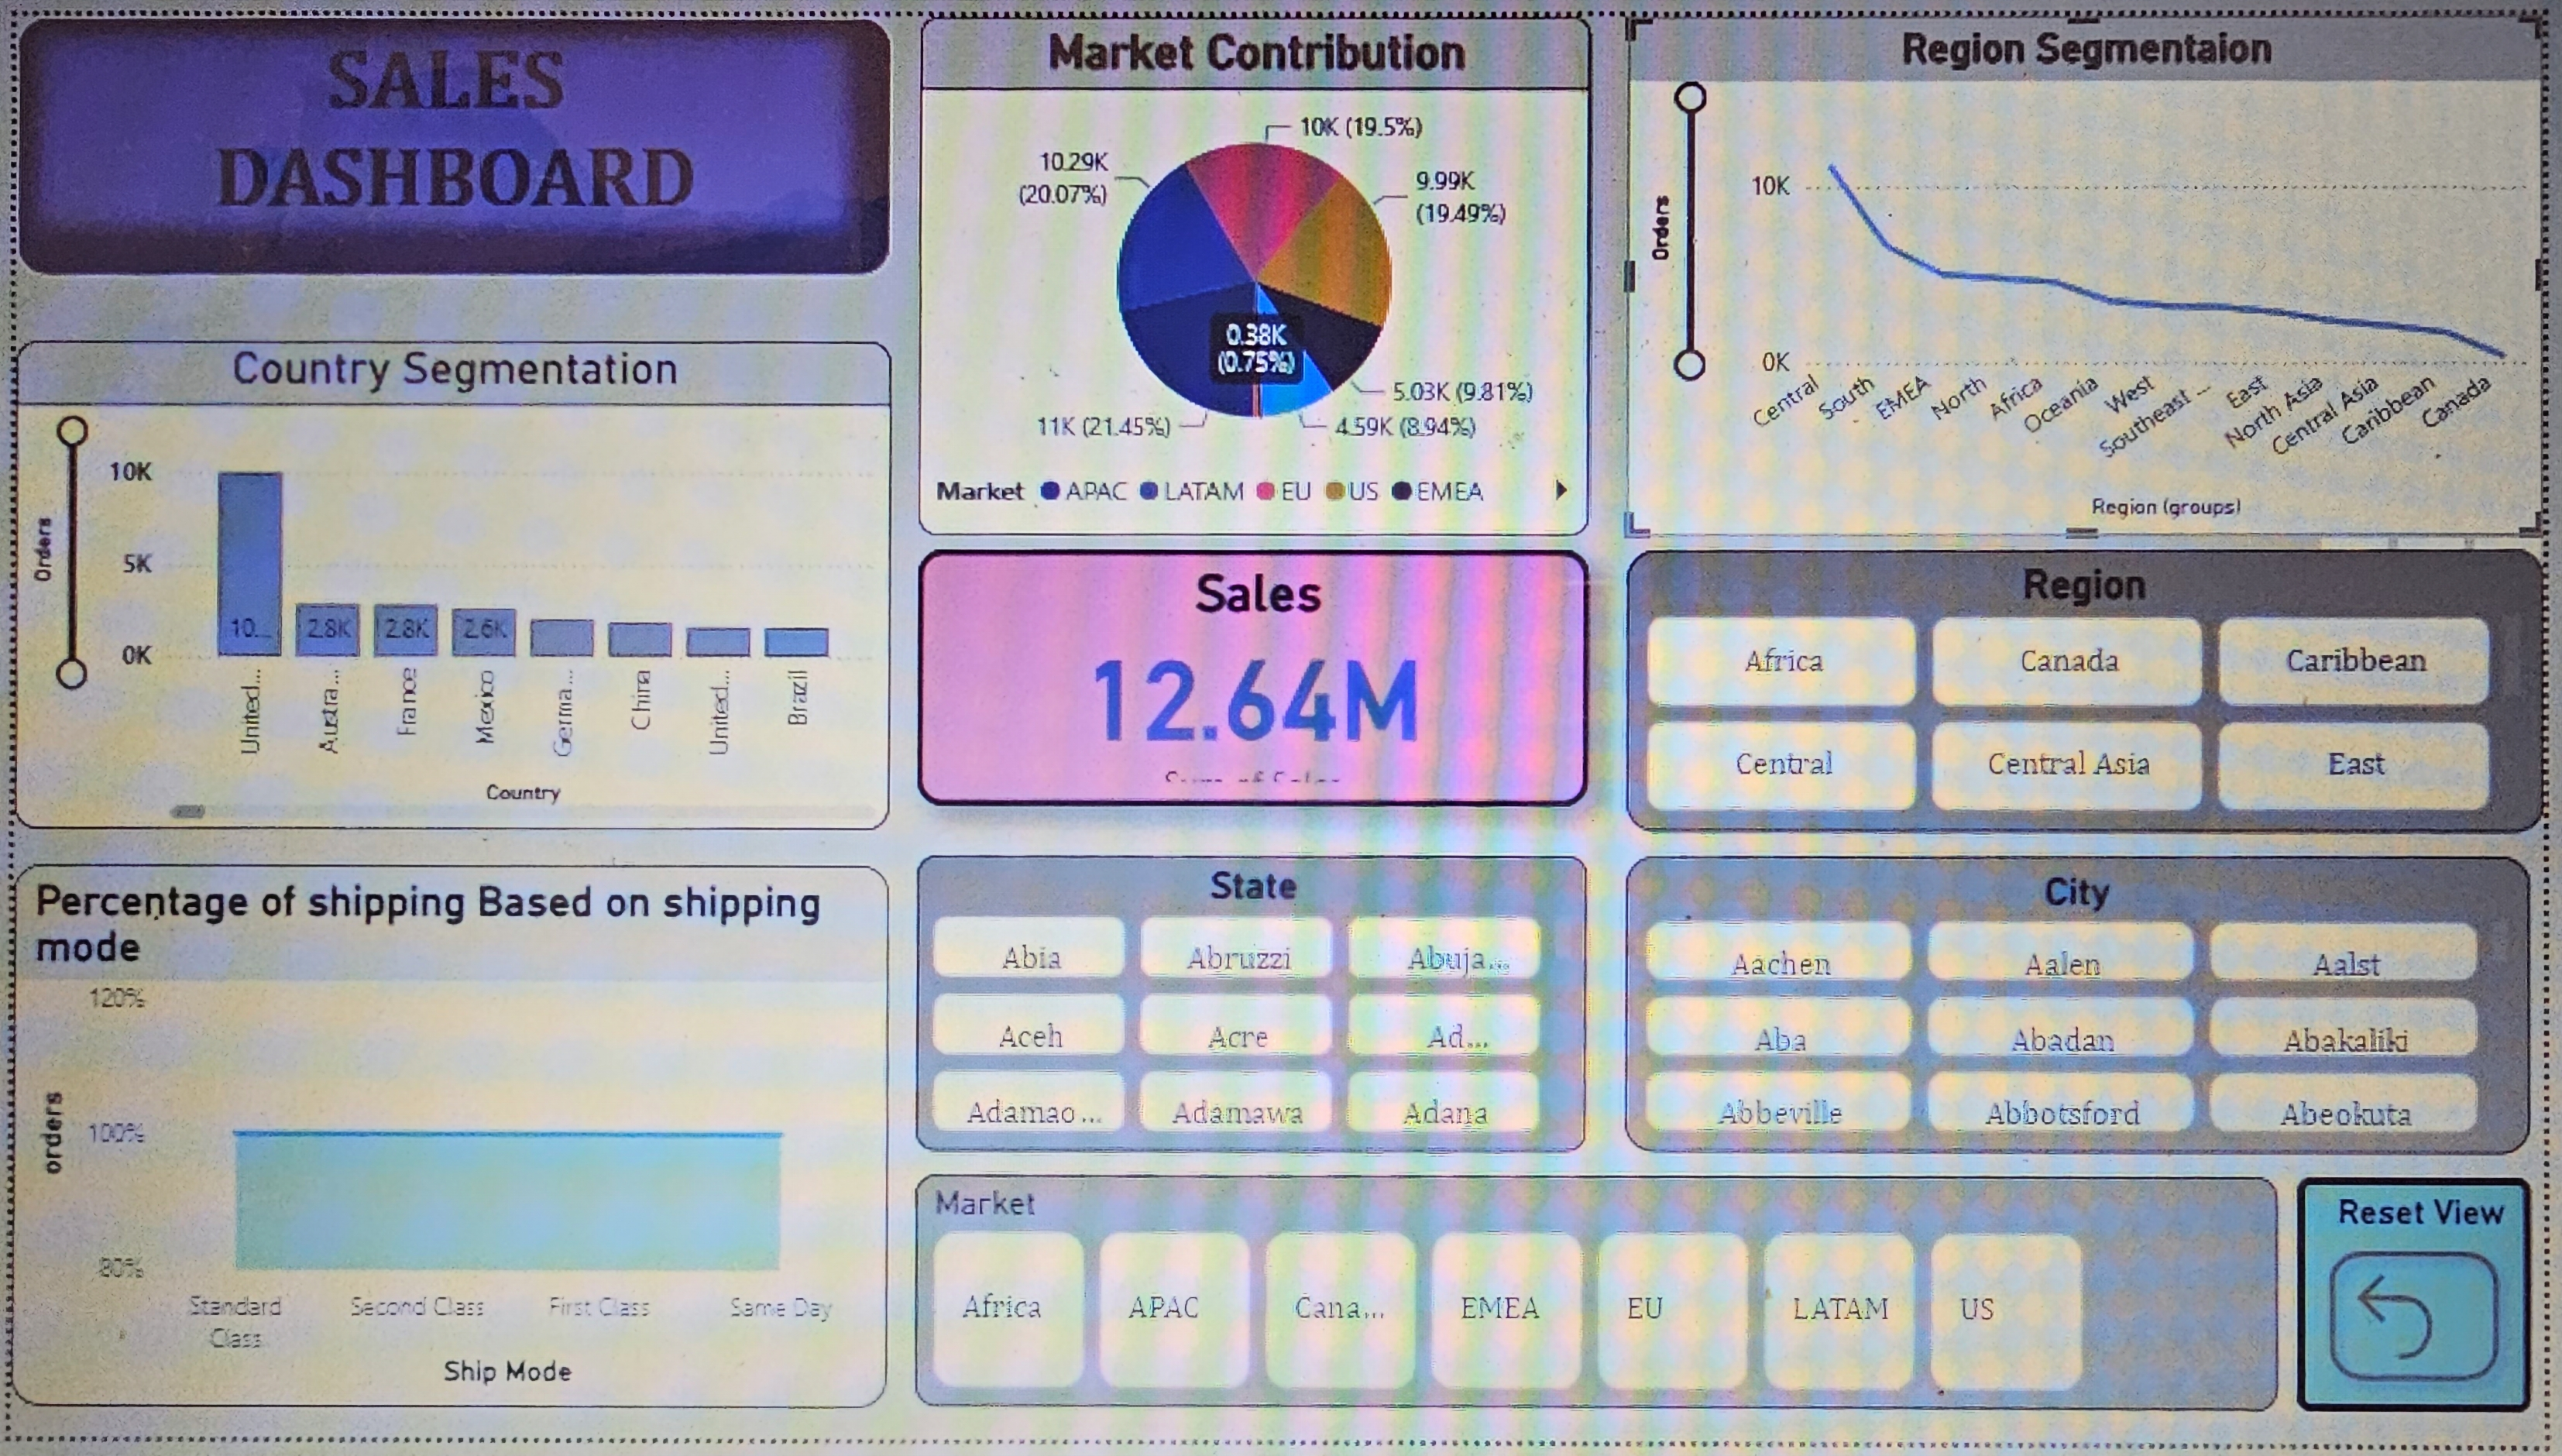

Layout of this report page (visuals, bound fields, positions):
{"tool":"powerbi","page":{"name":"Page 1","canvas":[1280,720],"ordinal":0},"visuals":[{"type":"lineClusteredColumnComboChart","title":"Country Segmentation","fields":{"Category":["Orders.Country"],"Y":["CountNonNull(Orders.Order ID)"]},"box":[0,165,445,248.3],"z":0},{"type":"lineChart","title":"Region Segmentaion","fields":{"Category":["Orders.Region (groups)"],"Y":["CountNonNull(Orders.Order ID)"]},"box":[818.3,0,461.7,263.3],"z":1},{"type":"pieChart","title":"Market Contribution","fields":{"Category":["Orders.Market"],"Y":["CountNonNull(Orders.Order ID)"]},"box":[458.3,0,340,263.3],"z":2},{"type":"hundredPercentStackedAreaChart","title":"Percentage of shipping Based on shipping mode","fields":{"Y":["CountNonNull(Orders.Order ID)"],"Category":["Orders.Ship Mode"]},"box":[0,430,445,275],"z":3},{"type":"actionButton","title":"Reset View","box":[1156.7,586.7,116.7,118.3],"z":8},{"type":"card","title":"Sales","fields":{"Values":["Sum(Orders.Sales)"]},"box":[458.3,270,340,130],"z":9},{"type":"advancedSlicerVisual","fields":{"Values":["Orders.Region"]},"box":[818.3,270,461.7,143.3],"z":10},{"type":"advancedSlicerVisual","fields":{"Values":["Orders.State"]},"box":[458.3,425,340,150],"z":11},{"type":"advancedSlicerVisual","fields":{"Values":["Orders.City"]},"box":[818.3,425,455,150],"z":12},{"type":"advancedSlicerVisual","fields":{"Values":["Orders.Market"]},"box":[458.3,586.7,688.3,118.3],"z":13},{"type":"textbox","box":[0,0,445,131.7],"z":14}]}

Visuals, with their boxes in screenshot pixels (x1, y1, x2, y2), scaled from the page's 1280x720 canvas onto the 2562x1456 screenshot:
"Country Segmentation" lineClusteredColumnComboChart: box=[0, 334, 891, 836]
"Region Segmentaion" lineChart: box=[1638, 0, 2561, 533]
"Market Contribution" pieChart: box=[917, 0, 1598, 533]
"Percentage of shipping Based on shipping mode" hundredPercentStackedAreaChart: box=[0, 870, 891, 1426]
"Reset View" actionButton: box=[2315, 1186, 2549, 1426]
"Sales" card: box=[917, 546, 1598, 809]
advancedSlicerVisual - Orders.Region: box=[1638, 546, 2561, 836]
advancedSlicerVisual - Orders.State: box=[917, 860, 1598, 1162]
advancedSlicerVisual - Orders.City: box=[1638, 860, 2549, 1162]
advancedSlicerVisual - Orders.Market: box=[917, 1186, 2295, 1426]
textbox: box=[0, 0, 891, 266]
